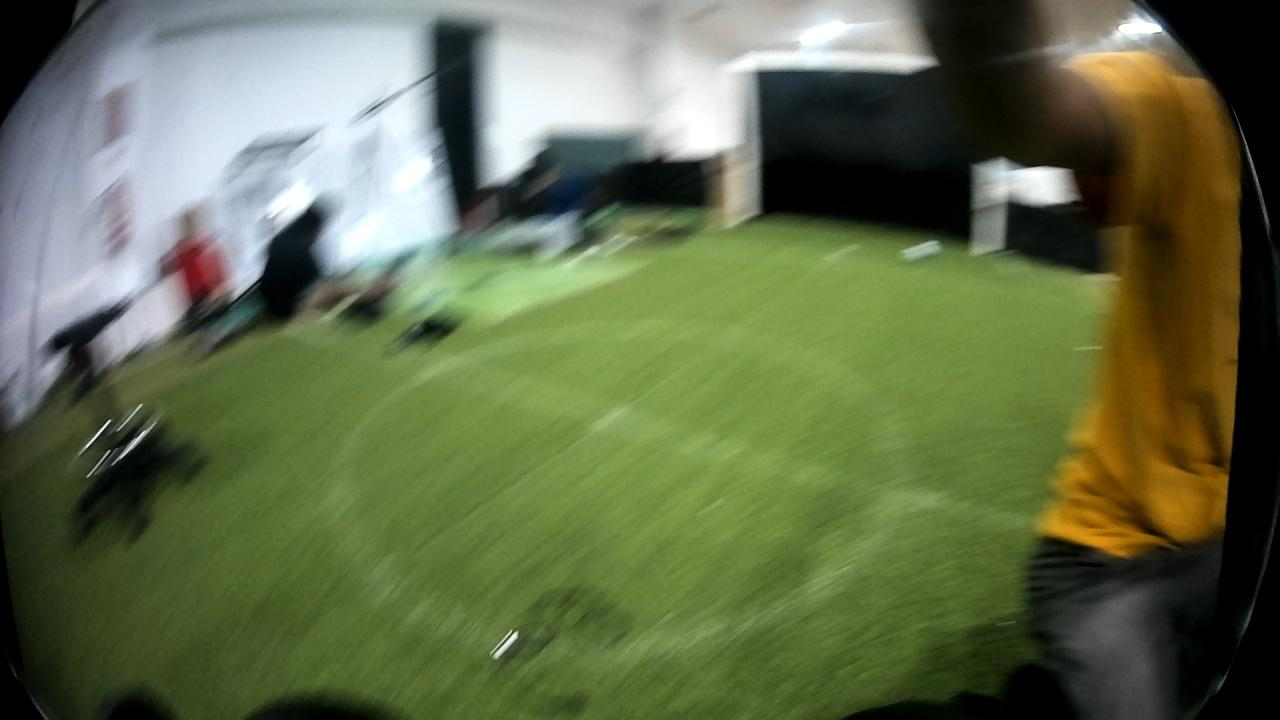ball: (894, 240, 946, 265)
